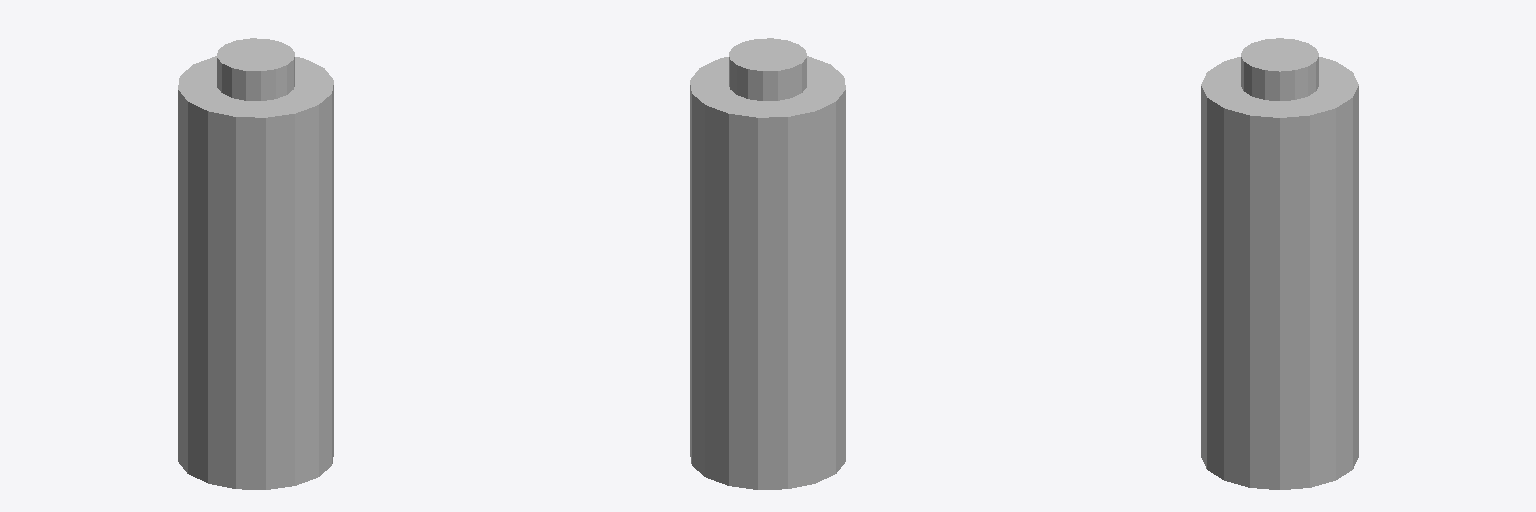
File: battery.obj
3 views of the same model, side by side, from view 1: azimuth 30°, elevation 25°; view 2: azimuth 150°, elevation 25°; view 3: azimuth 270°, elevation 25° (orthographic).
Visible parts, largest first — view 1: Battery; view 2: Battery; view 3: Battery.
Part boxes in pixels (bbox=[...]): Battery: bbox=[178, 38, 333, 489]; Battery: bbox=[690, 38, 845, 489]; Battery: bbox=[1201, 38, 1358, 489].
Bounding box in the file's own units: 0.8 × 2.25 × 0.8.